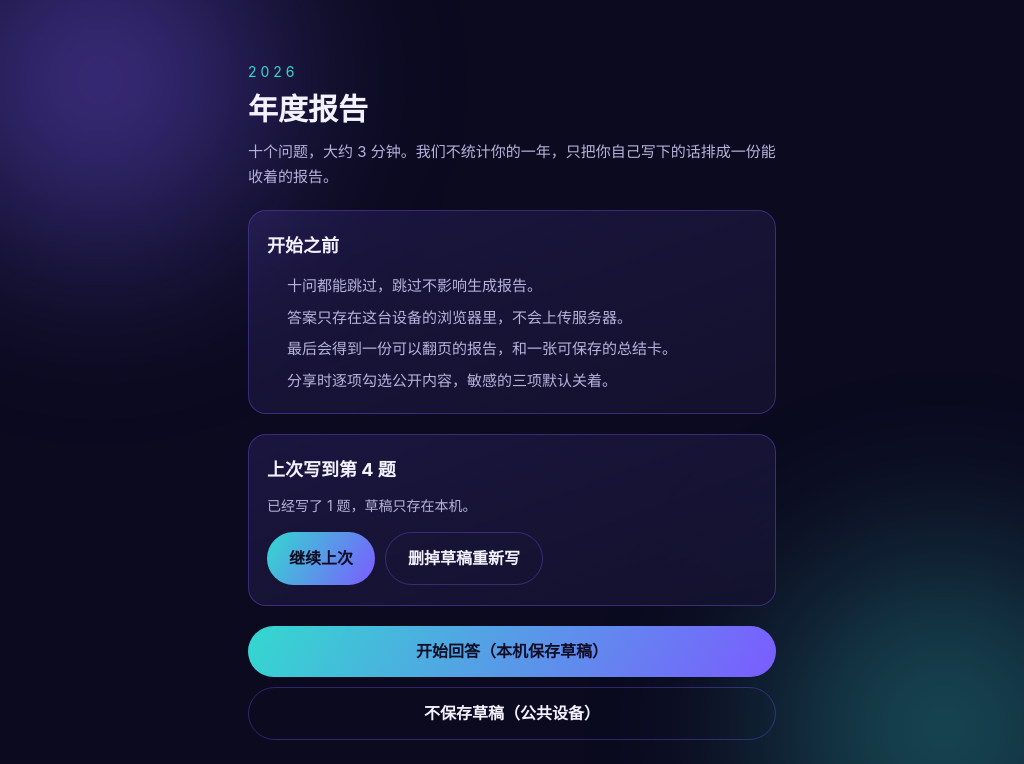
App 草稿 › 删掉草稿后首屏不再提示续答
Expected: the heading "上次写到第 4 题" is shown, [267,459,396,480]
Click the button "删掉草稿重新写" at (464, 558), box [385,532,543,585]
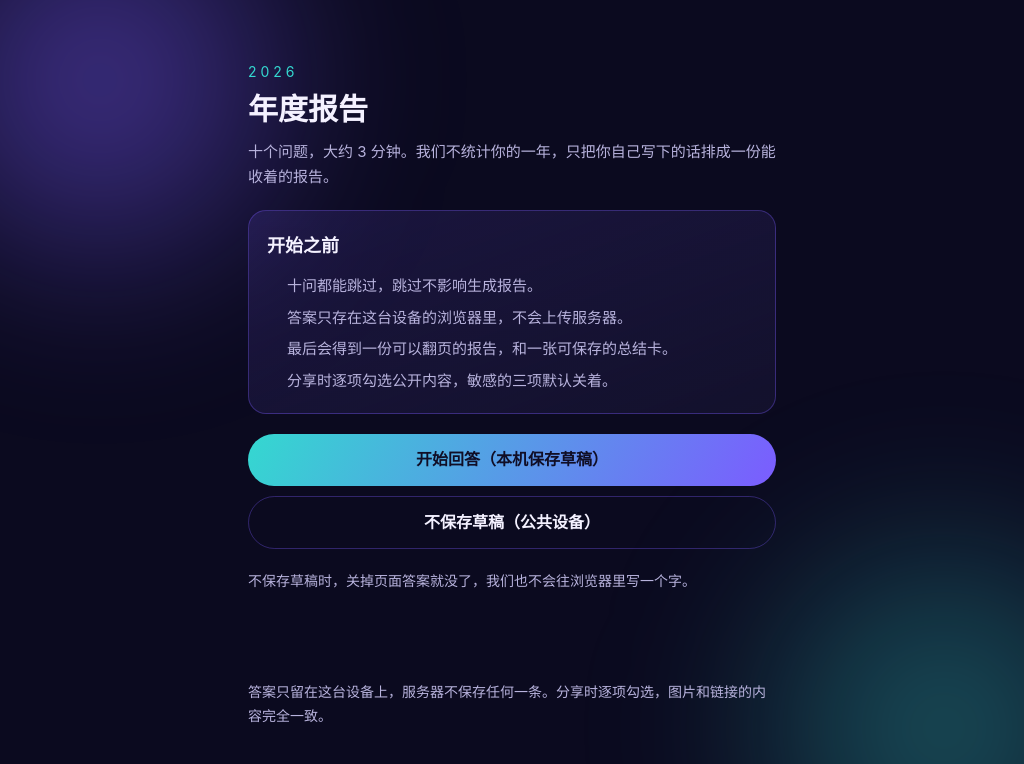
Expected: the heading "上次写到第 4 题" is gone
